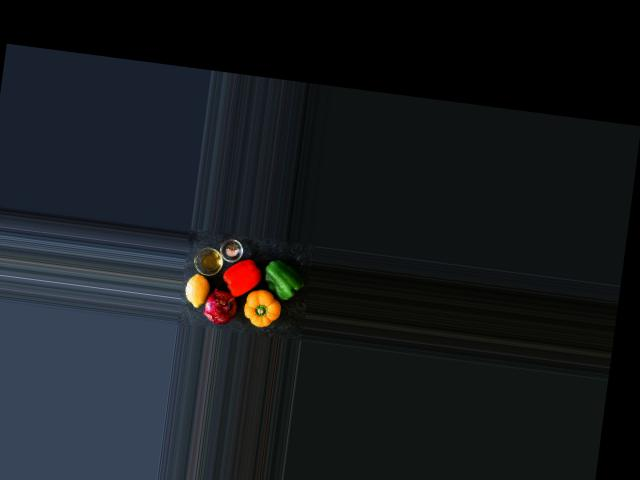bell_pepper: (220, 254, 263, 300)
